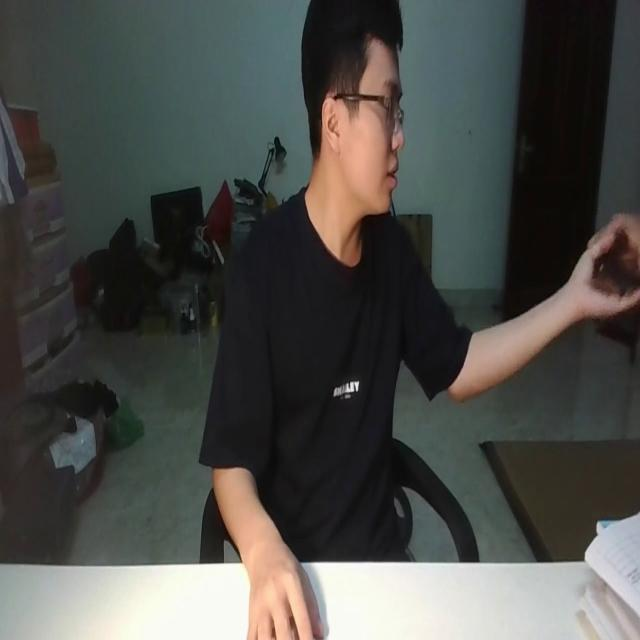student: (199, 0, 640, 640)
